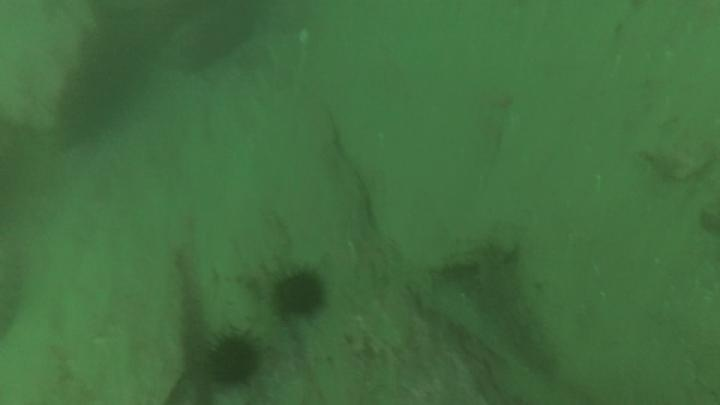echinus: (53, 60, 132, 143), (203, 328, 265, 389), (269, 267, 329, 321)
